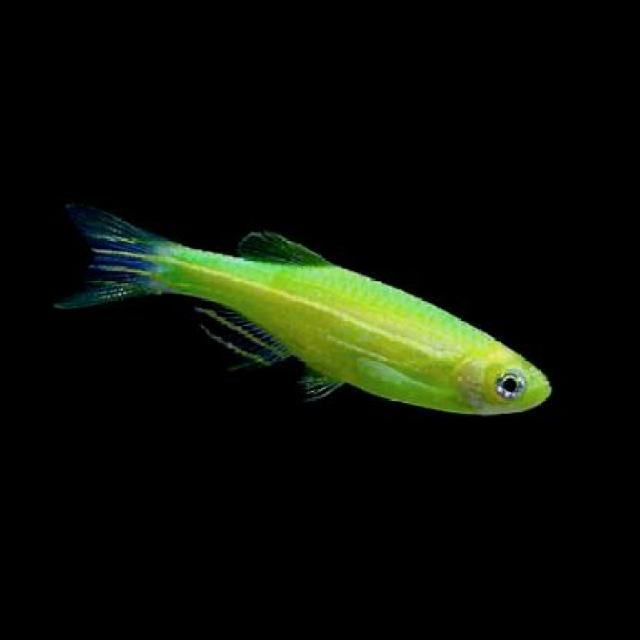ZebraFish: (51, 201, 552, 417)
